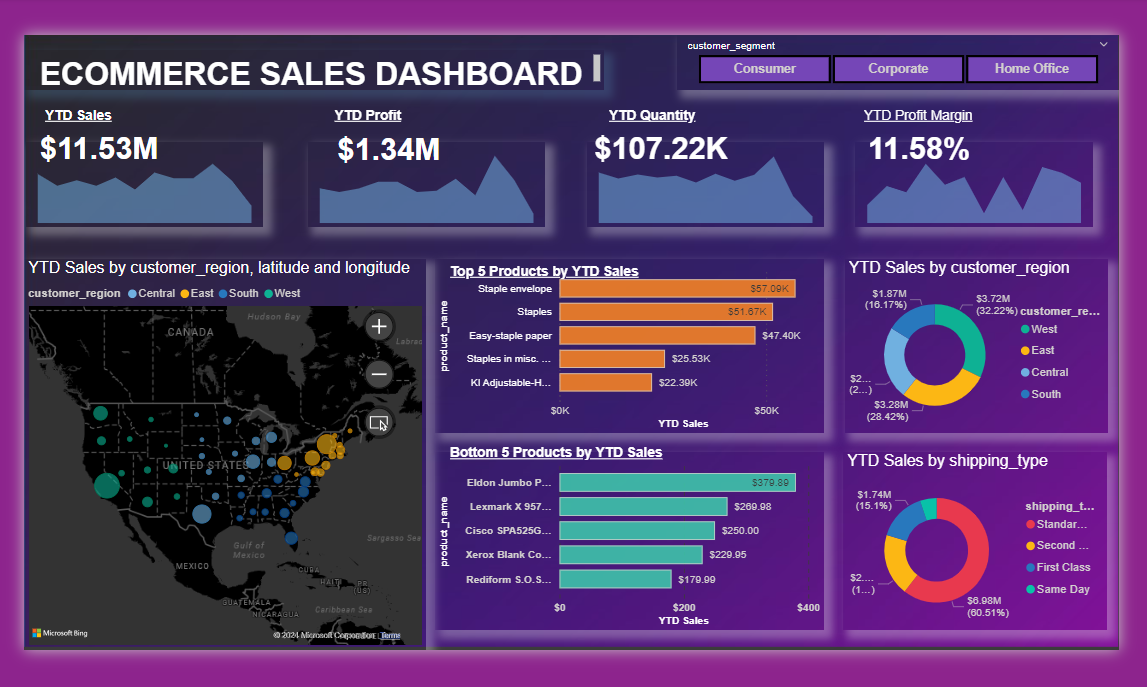

What the dashboard file says about the page in this screenshot:
{"tool":"powerbi","page":{"name":"Page 1","canvas":[1280,720],"ordinal":0},"visuals":[{"type":"textbox","box":[0,17,678.7,46.8],"z":0},{"type":"card","fields":{"Values":["ecommerce_data.YTD Sales"]},"box":[0,102.1,174.5,57.4],"z":1000},{"type":"areaChart","fields":{"Category":["Calender.Month"],"Y":["Sum(ecommerce_data.sales_per_order)"]},"box":[1.6,125,278.2,100],"z":2000},{"type":"map","fields":{"Y":["us_state_long_lat_codes.latitude"],"X":["us_state_long_lat_codes.longitude"],"Size":["ecommerce_data.YTD Sales"],"Series":["ecommerce_data.customer_region"]},"box":[0,261.7,470.2,457.4],"z":3000},{"type":"barChart","fields":{"Category":["ecommerce_data.product_name"],"Y":["ecommerce_data.YTD Sales"]},"box":[480.9,261.7,455.3,204.3],"z":4000},{"type":"barChart","fields":{"Category":["ecommerce_data.product_name"],"Y":["ecommerce_data.YTD Sales"]},"box":[480.9,487.2,455.3,208.5],"z":5000},{"type":"donutChart","fields":{"Y":["ecommerce_data.YTD Sales"],"Category":["ecommerce_data.customer_region"]},"box":[959.6,261.7,308.5,204.3],"z":6000},{"type":"donutChart","fields":{"Y":["ecommerce_data.YTD Sales"],"Category":["ecommerce_data.shipping_type"]},"box":[957.4,487.2,308.5,208.5],"z":7000},{"type":"slicer","fields":{"Values":["ecommerce_data.customer_segment"]},"box":[763.8,0,517,63.8],"z":8000},{"type":"card","fields":{"Values":["Calender.YTD Profit"]},"box":[339.2,103.2,175.1,56.3],"z":9000},{"type":"areaChart","fields":{"Category":["Calender.Month"],"Y":["Sum(ecommerce_data.profit_per_order)"]},"box":[331.4,125,278.2,100],"z":10000},{"type":"areaChart","fields":{"Category":["Calender.Month"],"Y":["Sum(ecommerce_data.order_quantity)"]},"box":[658,125,278.2,100],"z":11000},{"type":"areaChart","fields":{"Category":["Calender.Month"],"Y":["Calender.Profit Margin"]},"box":[972.2,125,278.2,100],"z":12000},{"type":"textbox","box":[19.1,78.7,121.3,34],"z":13000},{"type":"textbox","box":[357.9,79.7,156.3,46.9],"z":14000},{"type":"card","fields":{"Values":["ecommerce_data.YTD Qty"]},"box":[657.9,101.8,173.7,57.9],"z":15000},{"type":"textbox","box":[678.3,78.1,164.1,34.4],"z":16000},{"type":"textbox","box":[976.6,78.7,168.1,34],"z":17000},{"type":"card","fields":{"Values":["Calender.YTD Profit Margin"]},"box":[959.6,101.8,173.7,57.9],"z":18000},{"type":"textbox","box":[493.6,261.7,274.5,34],"z":19000},{"type":"textbox","box":[493.6,474.5,293.6,34],"z":20000}]}

Visuals, with their boxes on the page's 1280x720 design canvas (x1, y1, x2, y2). These are canvas units, not pixel positions in the 1147x687 screenshot, which may show the page scaled, cropped or inside an application window:
textbox: <box>0,17,679,64</box>
card - ecommerce_data.YTD Sales: <box>0,102,174,160</box>
areaChart - Calender.Month x Sum(ecommerce_data.sales_per_order): <box>2,125,280,225</box>
map - us_state_long_lat_codes.latitude x us_state_long_lat_codes.longitude: <box>0,262,470,719</box>
barChart - ecommerce_data.product_name x ecommerce_data.YTD Sales: <box>481,262,936,466</box>
barChart - ecommerce_data.product_name x ecommerce_data.YTD Sales: <box>481,487,936,696</box>
donutChart - ecommerce_data.YTD Sales x ecommerce_data.customer_region: <box>960,262,1268,466</box>
donutChart - ecommerce_data.YTD Sales x ecommerce_data.shipping_type: <box>957,487,1266,696</box>
slicer - ecommerce_data.customer_segment: <box>764,0,1281,64</box>
card - Calender.YTD Profit: <box>339,103,514,160</box>
areaChart - Calender.Month x Sum(ecommerce_data.profit_per_order): <box>331,125,610,225</box>
areaChart - Calender.Month x Sum(ecommerce_data.order_quantity): <box>658,125,936,225</box>
areaChart - Calender.Month x Calender.Profit Margin: <box>972,125,1250,225</box>
textbox: <box>19,79,140,113</box>
textbox: <box>358,80,514,127</box>
card - ecommerce_data.YTD Qty: <box>658,102,832,160</box>
textbox: <box>678,78,842,112</box>
textbox: <box>977,79,1145,113</box>
card - Calender.YTD Profit Margin: <box>960,102,1133,160</box>
textbox: <box>494,262,768,296</box>
textbox: <box>494,474,787,508</box>
